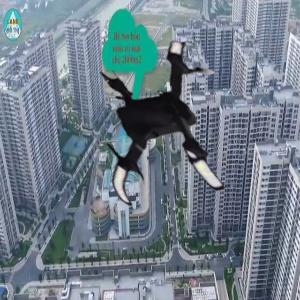drone: (67, 24, 258, 215)
